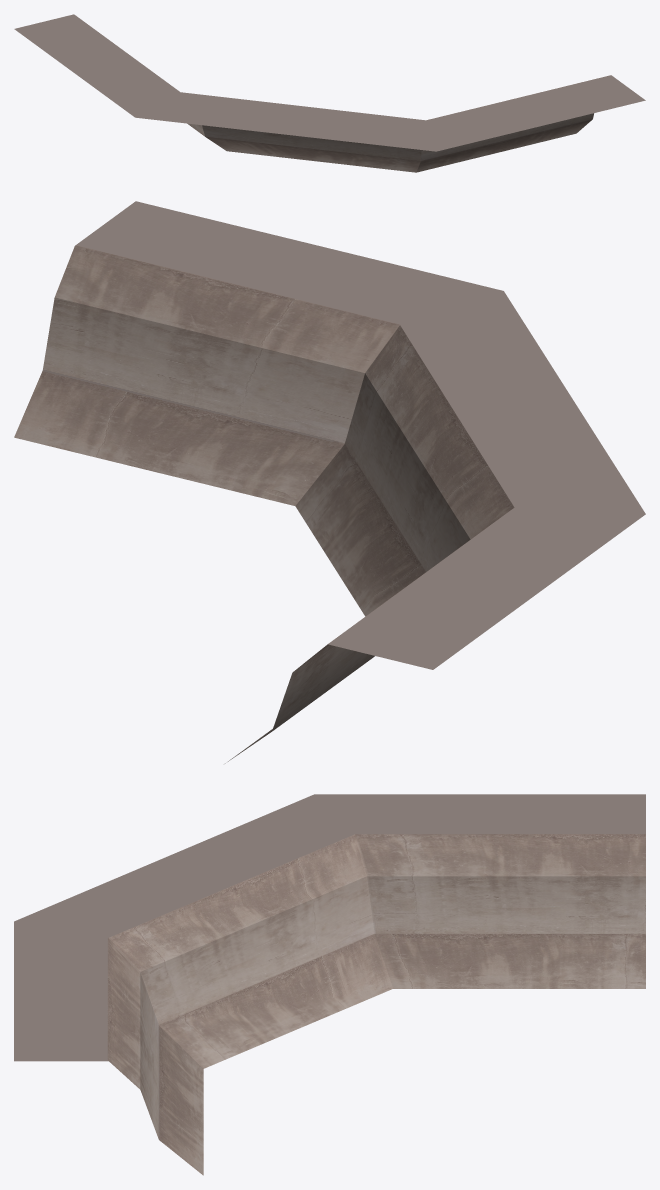
The model's file is stadWallsCorner.fbx.
The picture shows the model from 3 angles, top to bottom: view 1: azimuth 30°, elevation 25°; view 2: azimuth 150°, elevation 25°; view 3: azimuth 270°, elevation 25°; orthographic projection. The views are drawn at different scales.
Parts seen in each view (by area): view 1: wallCorner; view 2: wallCorner; view 3: wallCorner.
Boxes of the visible parts, bbox=[...] form: wallCorner: bbox=[14, 14, 645, 172]; wallCorner: bbox=[14, 201, 645, 763]; wallCorner: bbox=[14, 794, 645, 1175].
Bounding box in the file's own units: 2000 × 400 × 2000.
Materials: 1 (1 with a texture image).
